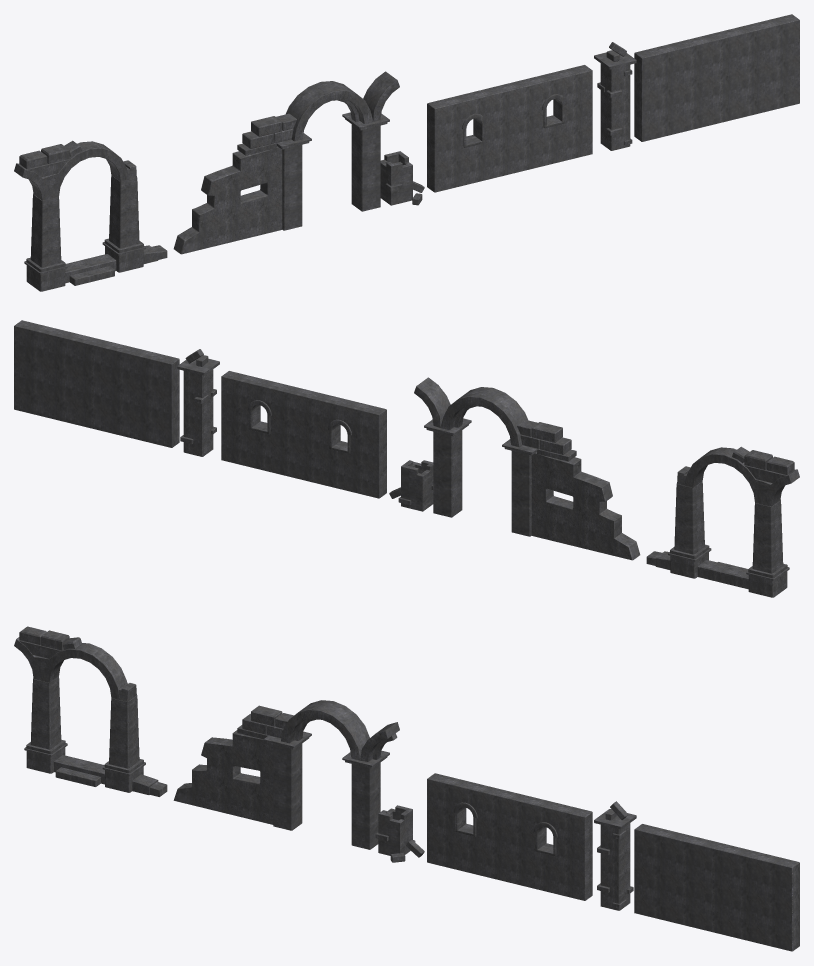
The model's file is Distroy_wall.fbx.
3 views of the same model, one above another, from view 1: azimuth 30°, elevation 25°; view 2: azimuth 150°, elevation 25°; view 3: azimuth 330°, elevation 25° (orthographic).
Visible parts, largest first — view 1: Distroy_wall3, Distroy_wall1, Distroy_wall2, Distroy_wall; view 2: Distroy_wall3, Distroy_wall1, Distroy_wall2, Distroy_wall; view 3: Distroy_wall3, Distroy_wall1, Distroy_wall2, Distroy_wall.
Part boxes in pixels (x1,y1,x2,y2): Distroy_wall3: (594,14,799,150); Distroy_wall1: (173,71,424,254); Distroy_wall2: (427,65,592,192); Distroy_wall: (14,140,167,291); Distroy_wall3: (14,320,219,456); Distroy_wall1: (389,377,640,560); Distroy_wall2: (221,371,386,498); Distroy_wall: (646,446,799,597); Distroy_wall3: (594,801,799,951); Distroy_wall1: (173,700,424,862); Distroy_wall2: (427,773,592,900); Distroy_wall: (14,626,167,796).
Bounding box in the file's own units: 4383 × 718 × 215.
